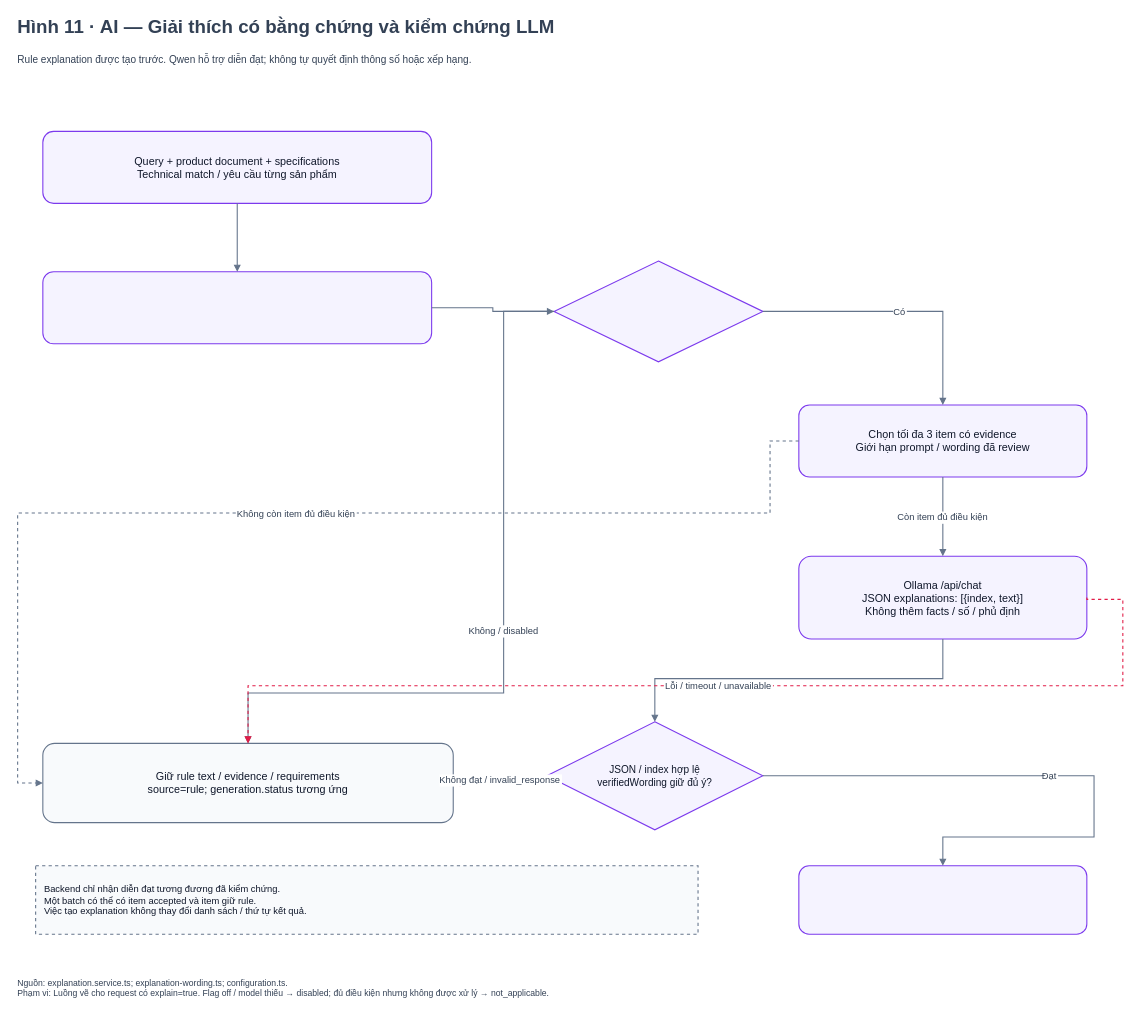
The diagram is 1146 pixels wide and 1030 high, and some of its shapes have lost their labels. The shapes that lost their labels are listed below. From the top down, each one's centre as x and y in pixels, then its label:
At [237,307]: "Tạo rule explanation text + evidence + requirements/status".
At [658,311]: "explain=true LLM enabled + model?".
At [942,899]: "Giữ evidence / requirements gốc source=llm; status=accepted".
